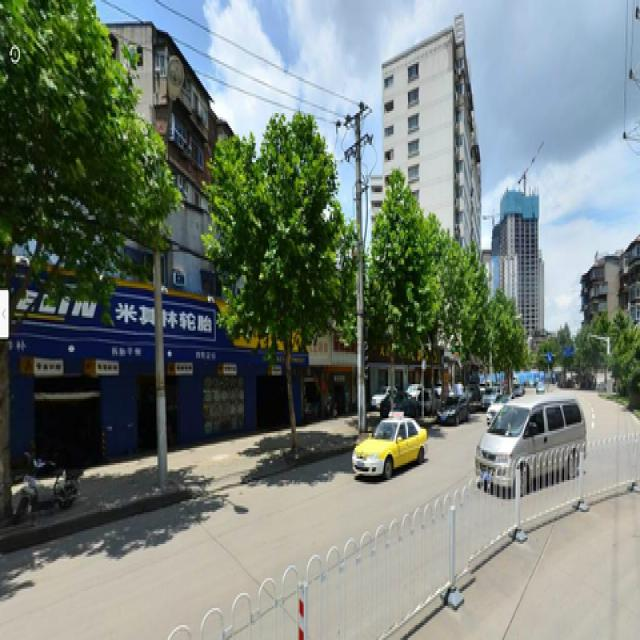meta: (220, 130, 339, 444)
